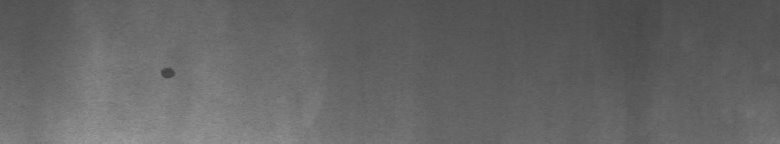fi: (156, 60, 179, 88)
